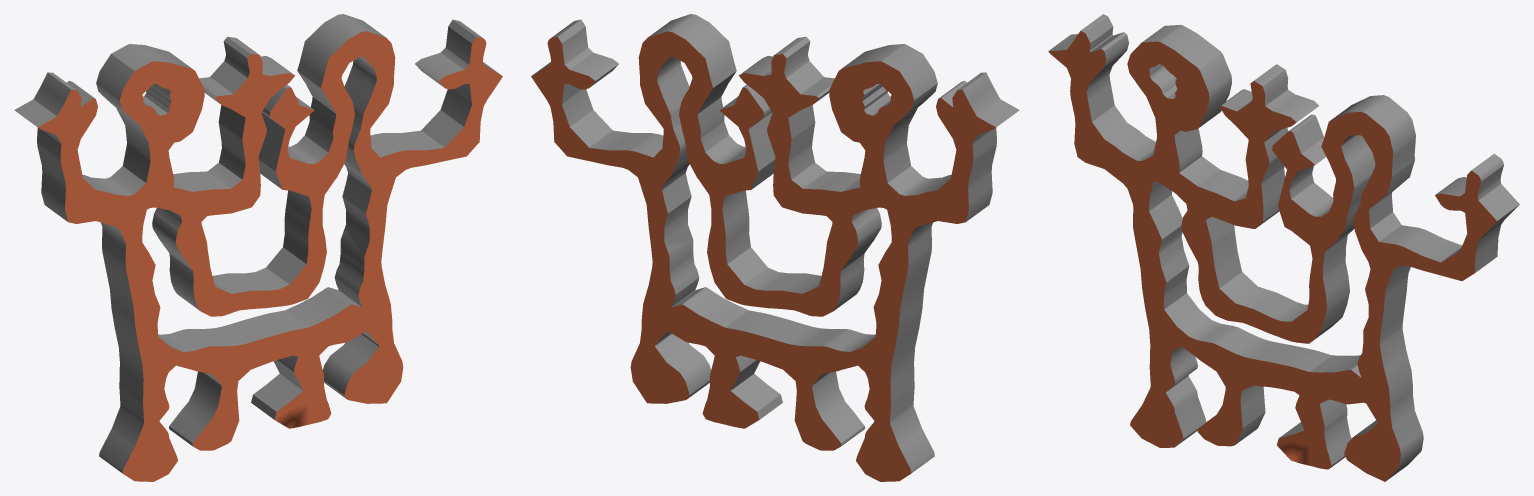
File: antropomorfas.fbx
3 renders of one model, left to right at view 1: azimuth 30°, elevation 25°; view 2: azimuth 150°, elevation 25°; view 3: azimuth 330°, elevation 25°, orthographic. The views are drawn at different scales.
Parts seen in each view (by area): view 1: polySurface2; view 2: polySurface2; view 3: polySurface2.
Part boxes in pixels (x1,y1,x2,y2): polySurface2: [14, 14, 502, 481]; polySurface2: [531, 14, 1019, 481]; polySurface2: [1048, 14, 1519, 481].
Bounding box in the file's own units: 13.93 × 12.04 × 1.23.
